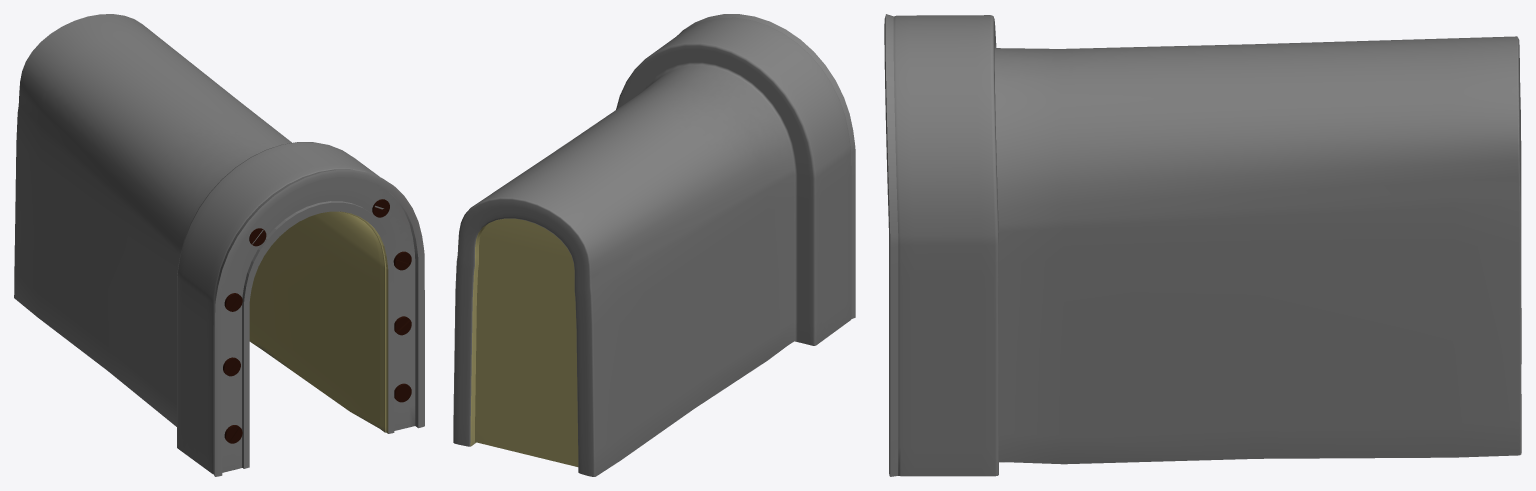
Rendered from TunnelColor.fbx.
The picture shows the model from 3 angles, left to right: view 1: azimuth 30°, elevation 25°; view 2: azimuth 150°, elevation 25°; view 3: azimuth 270°, elevation 25°; orthographic projection. The views are drawn at different scales.
Visible parts, largest first — view 1: Tunnel; view 2: Tunnel; view 3: Tunnel.
Boxes of the visible parts, box(x1,y1,x2,y2) form: Tunnel: box(14, 14, 424, 476); Tunnel: box(453, 14, 855, 476); Tunnel: box(884, 14, 1521, 476).
Size of the model in its own units: 67.73 by 87.59 by 132.
